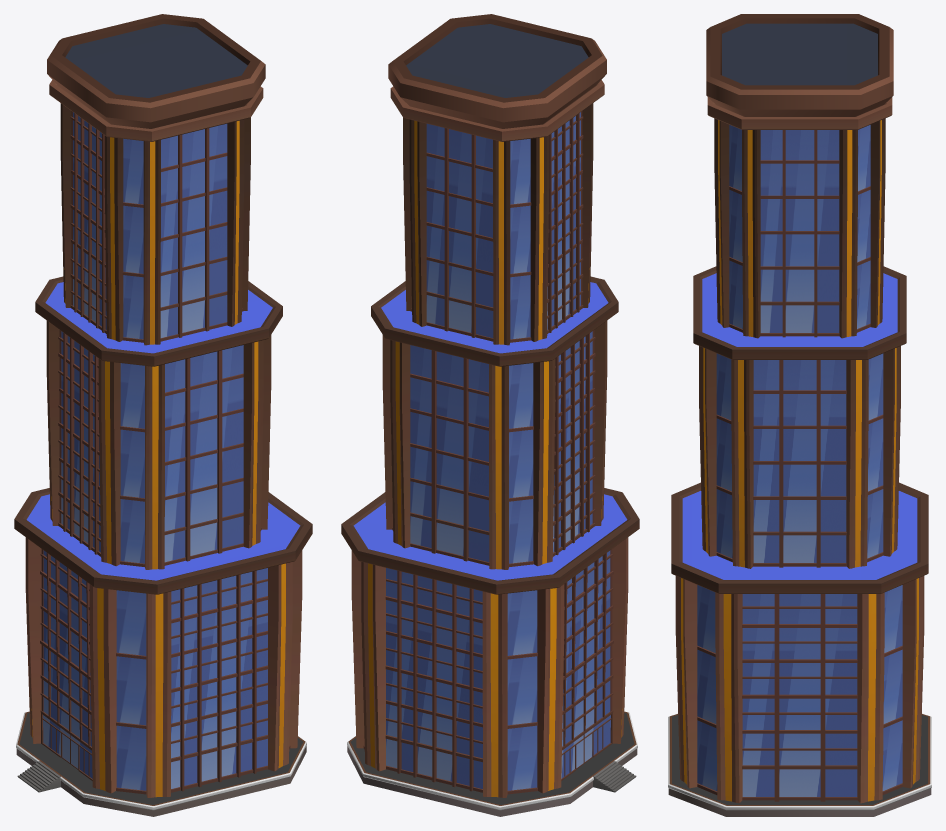
Rendered from Building_7_1_B.fbx.
The picture shows the model from 3 angles, left to right: view 1: azimuth 30°, elevation 25°; view 2: azimuth 150°, elevation 25°; view 3: azimuth 270°, elevation 25°; orthographic projection.
Visible parts, largest first — view 1: Building_7_1_B; view 2: Building_7_1_B; view 3: Building_7_1_B.
Part boxes in pixels (x1,y1,x2,y2): Building_7_1_B: (14,14,312,816); Building_7_1_B: (341,14,639,816); Building_7_1_B: (668,14,931,816).
Size of the model in its own units: 2520 by 6846 by 2311.
